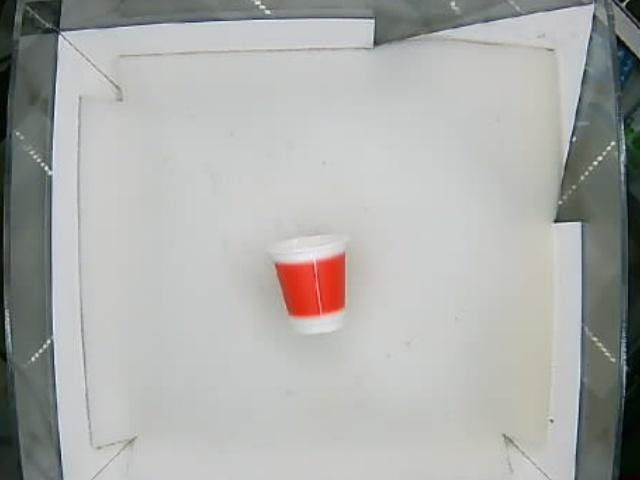Cup: (269, 233, 353, 335)
